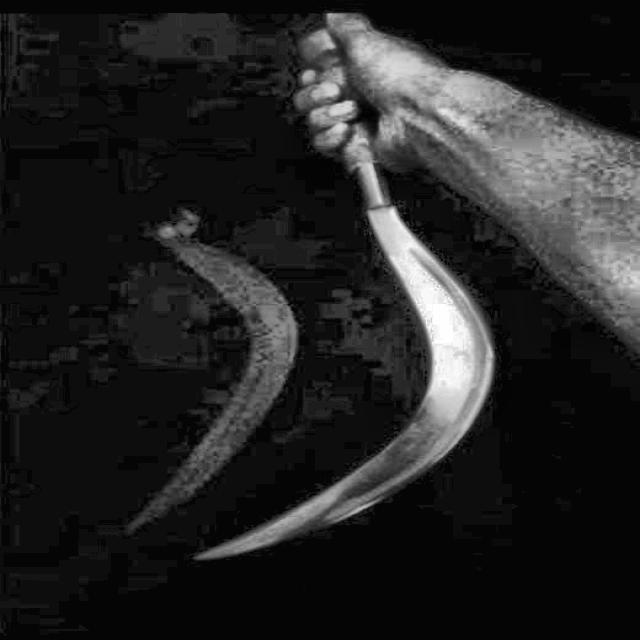celurit: (171, 14, 524, 575)
